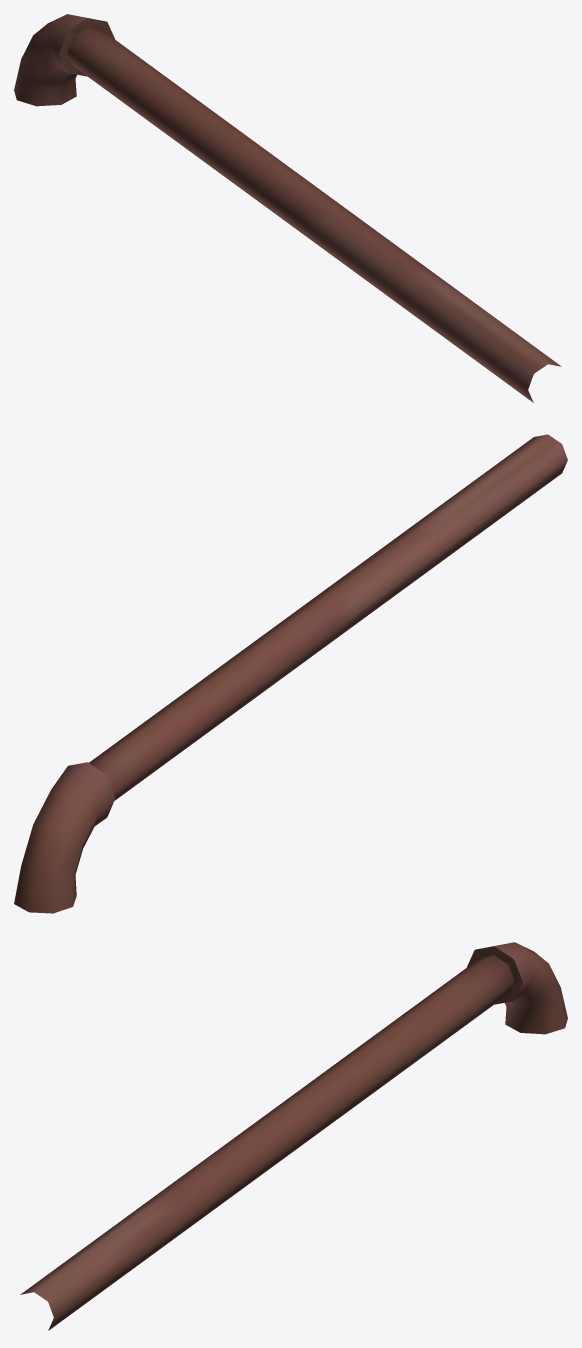
3 views of the same model, one above another, from view 1: azimuth 30°, elevation 25°; view 2: azimuth 150°, elevation 25°; view 3: azimuth 330°, elevation 25° (orthographic).
Visible parts, largest first — view 1: body0_model0_lod0_mesh0; view 2: body0_model0_lod0_mesh0; view 3: body0_model0_lod0_mesh0.
Boxes of the visible parts, bbox=[...] form: body0_model0_lod0_mesh0: bbox=[14, 14, 561, 402]; body0_model0_lod0_mesh0: bbox=[14, 434, 567, 913]; body0_model0_lod0_mesh0: bbox=[20, 942, 567, 1330].
Size of the model in its own units: 4.13 by 7.51 by 65.91.
1 material, 1 textured.
